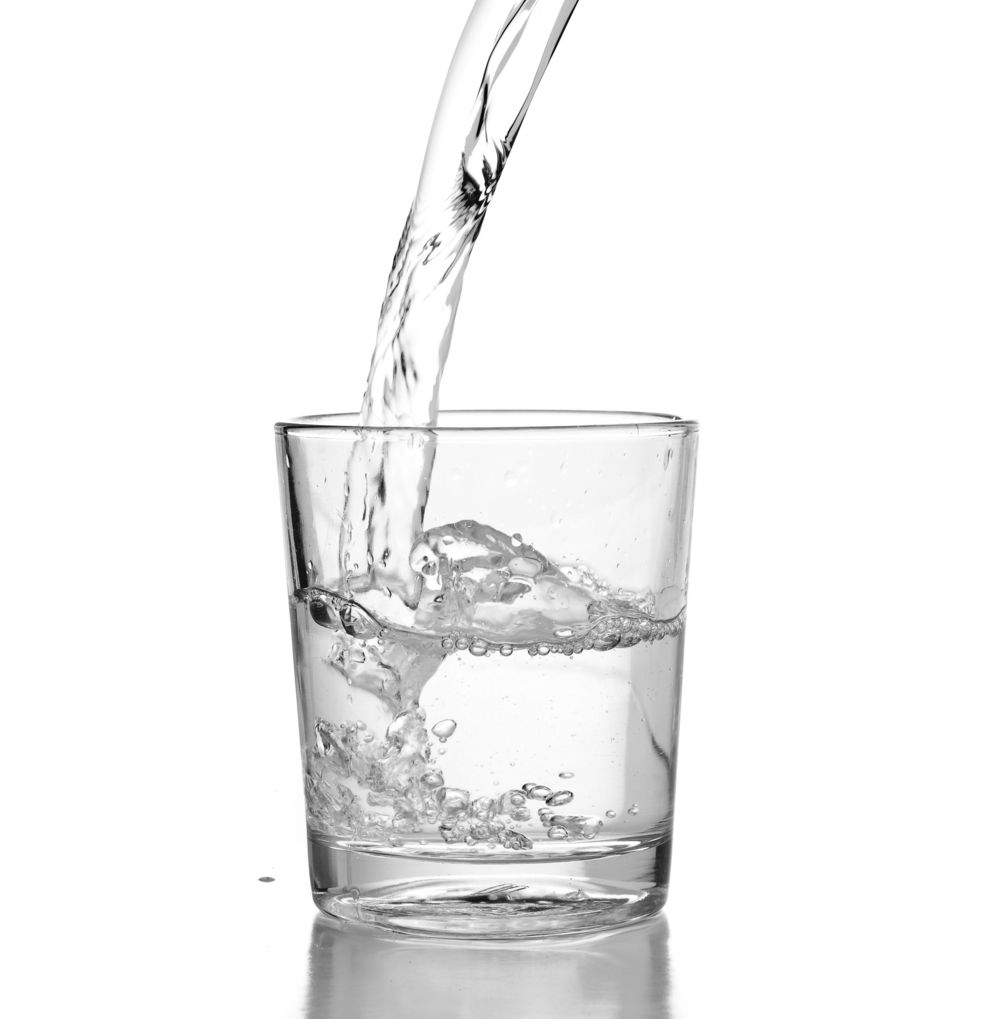glass of water: (290, 430, 667, 920)
